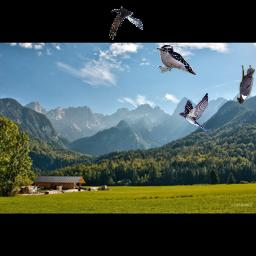Crow: (109, 6, 143, 40), (237, 65, 255, 104)
Swallow: (179, 93, 212, 133)
Woodpecker: (156, 45, 196, 75)
